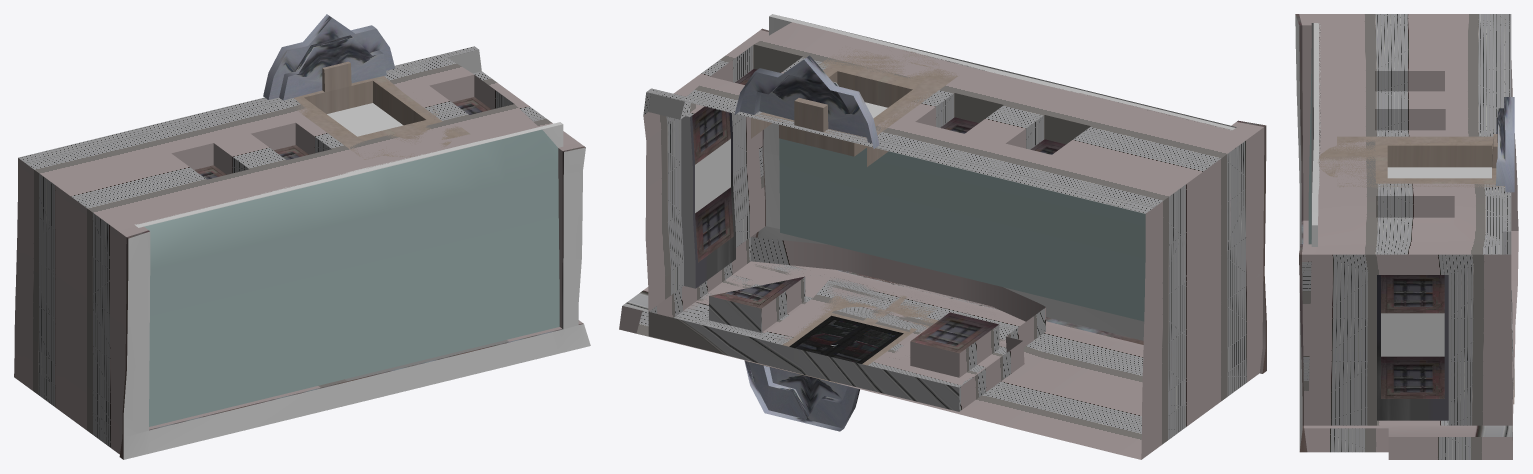
The model's file is Aia_20_2-origo.obj.
3 views of the same model, side by side, from view 1: azimuth 30°, elevation 25°; view 2: azimuth 150°, elevation 25°; view 3: azimuth 270°, elevation 25° (orthographic). The views are drawn at different scales.
Parts seen in each view (by area): view 1: polySurface7; view 2: polySurface7; view 3: polySurface7.
Boxes of the visible parts, <box> form: polySurface7: <box>14,14,590,459</box>; polySurface7: <box>619,14,1266,459</box>; polySurface7: <box>1295,14,1518,459</box>.
Size of the model in its own units: 11.38 by 7.5 by 4.66.
